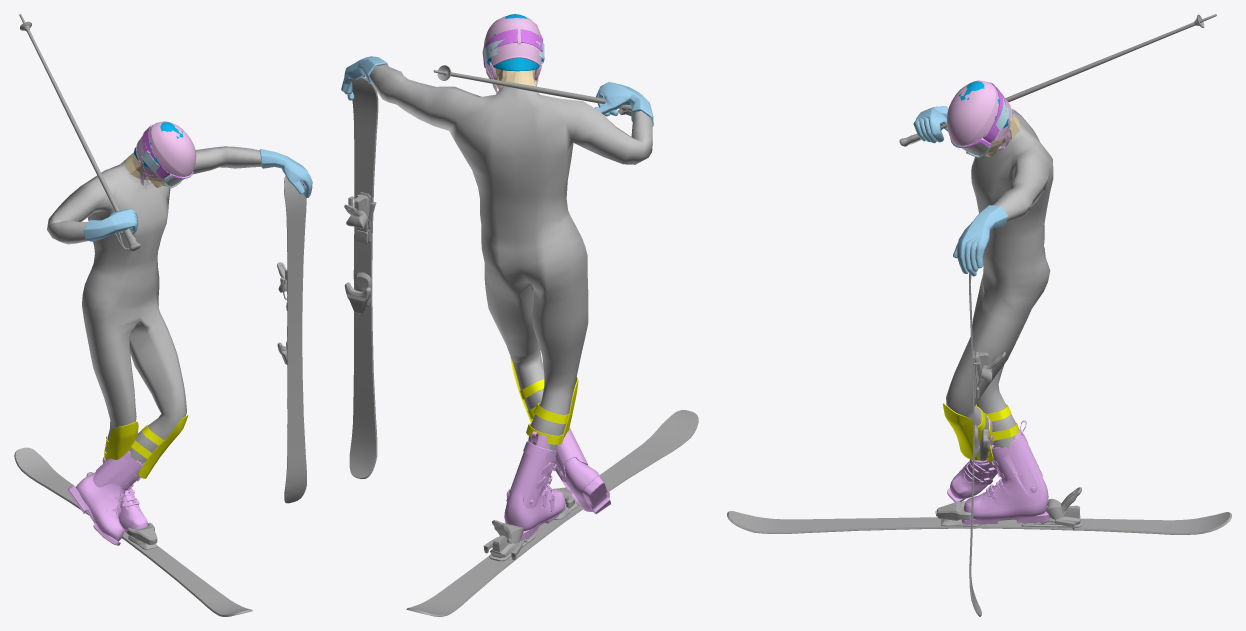
File: SM_Character_Posed.fbx
The picture shows the model from 3 angles, left to right: view 1: azimuth 30°, elevation 25°; view 2: azimuth 150°, elevation 25°; view 3: azimuth 270°, elevation 25°; orthographic projection. The views are drawn at different scales.
Visible parts, largest first — view 1: Ski Racing Suit, R_board1, R_board, Skiboot LEFTShape, GLOVES, Winter SKI Helmet, R_stick, Shin Guard LEFT, Shin Guard RIGHT1, Skiboot RIGHT1Shape, R_board_gard, Head01; view 2: Ski Racing Suit, R_board1, R_board, Skiboot RIGHT1Shape, Skiboot LEFTShape, GLOVES, Winter SKI Helmet, R_board_gard, R_stick, Shin Guard RIGHT1, GOGGLES w HELMET, HAT_Winter (+1 smaller); view 3: Ski Racing Suit, R_board, Skiboot RIGHT1Shape, GLOVES, Winter SKI Helmet, R_board1, R_board_gard, Skiboot LEFTShape, R_stick, Shin Guard LEFT.
Part boxes in pixels (x1,y1,x2,y2): Ski Racing Suit: (47,146,261,489); R_board1: (277,176,306,503); R_board: (14,447,252,616); Skiboot LEFTShape: (67,451,144,545); GLOVES: (83,149,312,241); Winter SKI Helmet: (136,121,196,185); R_stick: (19,14,140,251); Shin Guard LEFT: (130,415,188,478); Shin Guard RIGHT1: (104,421,138,460); Skiboot RIGHT1Shape: (100,436,147,532); R_board_gard: (86,472,157,549); Head01: (125,152,165,187); Ski Racing Suit: (369,64,652,451); R_board1: (344,76,378,479); R_board: (406,410,698,616); Skiboot RIGHT1Shape: (504,431,565,540); Skiboot LEFTShape: (555,427,610,514); GLOVES: (341,56,653,126); Winter SKI Helmet: (483,15,542,93); R_board_gard: (483,487,577,561); R_stick: (433,65,632,115); Shin Guard RIGHT1: (526,376,578,444); GOGGLES w HELMET: (482,29,543,78); HAT_Winter: (486,14,543,71); Ski Racing Suit: (946,108,1053,448); R_board: (727,511,1231,534); Skiboot RIGHT1Shape: (961,420,1049,524); GLOVES: (913,106,1007,276); Winter SKI Helmet: (947,80,1012,150); R_board1: (969,273,1005,616); R_board_gard: (935,487,1081,529); Skiboot LEFTShape: (947,418,997,501); R_stick: (899,14,1216,146); Shin Guard LEFT: (943,403,991,460).
Bounding box in the file's own units: 114 × 174 × 194.
